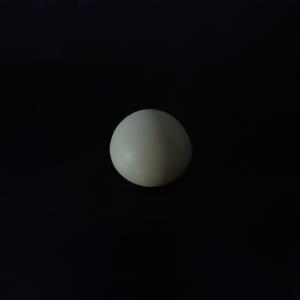Egg: (96, 108, 192, 194)
